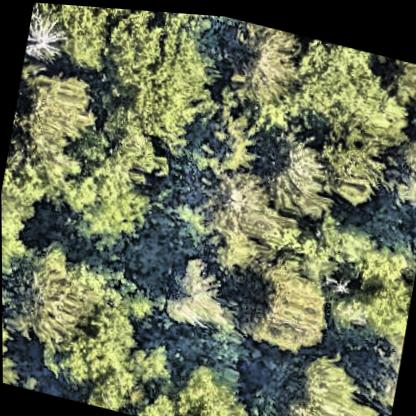tree-top: (88, 5, 231, 155), (89, 5, 223, 151), (284, 34, 416, 152), (311, 217, 416, 340), (238, 247, 341, 357), (1, 237, 99, 352), (61, 154, 154, 251), (10, 65, 99, 163), (252, 121, 338, 221), (50, 290, 135, 385), (275, 346, 383, 416), (37, 2, 134, 74), (159, 241, 230, 332), (310, 124, 392, 201), (1, 135, 85, 204), (229, 22, 300, 103), (161, 355, 254, 416), (197, 164, 273, 235), (194, 97, 260, 172), (1, 174, 43, 252), (385, 122, 416, 203), (25, 5, 67, 62), (380, 50, 416, 97), (2, 347, 23, 385), (2, 301, 12, 366)
